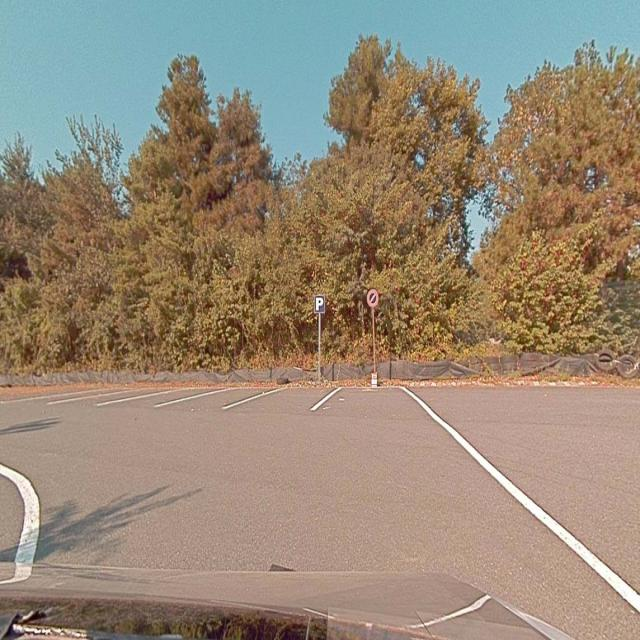park: (315, 296, 324, 312)
parkyasak: (367, 290, 378, 306)
